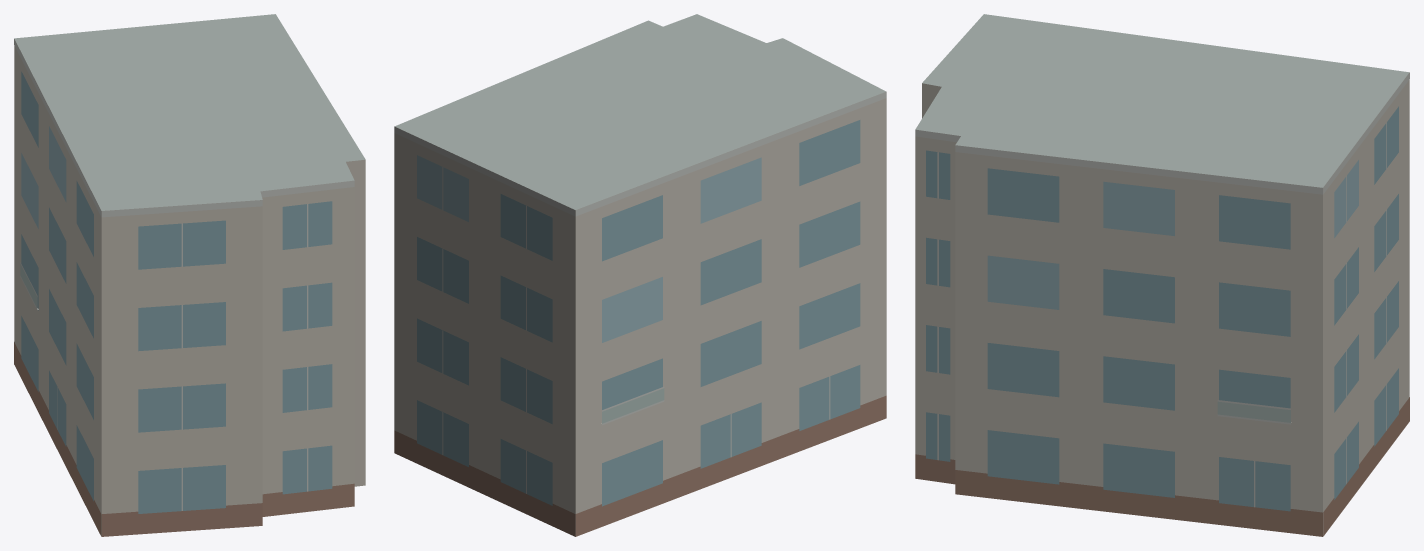
File: survey-upis-32734326.glb
3 renders of one model, left to right at view 1: azimuth 30°, elevation 25°; view 2: azimuth 150°, elevation 25°; view 3: azimuth 270°, elevation 25°, orthographic. The views are drawn at different scales.
Visible parts, largest first — view 1: survey-upis-32734326.tmp; view 2: survey-upis-32734326.tmp; view 3: survey-upis-32734326.tmp.
Boxes of the visible parts, <box> form: survey-upis-32734326.tmp: <box>14,14,365,536</box>; survey-upis-32734326.tmp: <box>394,14,886,536</box>; survey-upis-32734326.tmp: <box>915,14,1409,536</box>.
Bounding box in the file's own units: 13.25 × 12.4 × 15.93.
